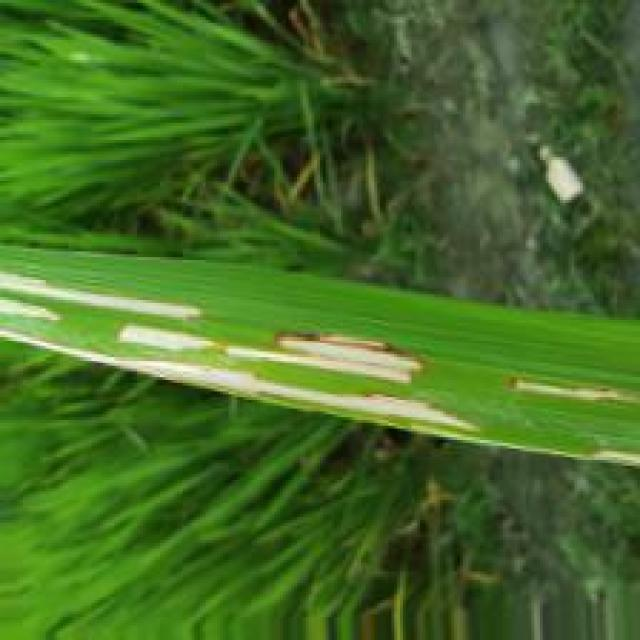Rice_Hispa: (1, 321, 483, 432), (120, 322, 432, 384), (0, 269, 211, 321), (499, 375, 638, 404), (576, 445, 640, 473), (0, 299, 64, 324)
